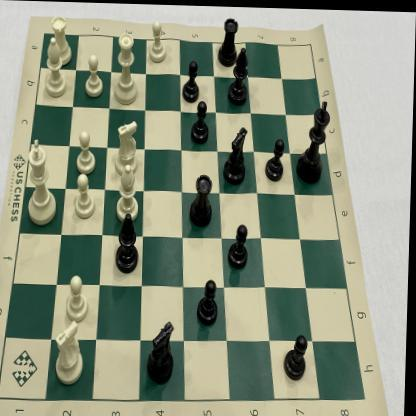black-bishop: (111, 208, 143, 276), (227, 42, 252, 109)
black-king: (295, 95, 332, 186)
black-knight: (147, 314, 179, 387), (223, 123, 249, 188)
black-pawn: (283, 327, 312, 382), (196, 274, 223, 326), (263, 133, 288, 183), (228, 219, 252, 271), (180, 56, 204, 105), (189, 98, 214, 145)
black-rook: (189, 166, 217, 228), (215, 11, 241, 69)
white-bishop: (39, 35, 71, 99), (116, 162, 143, 225)
white-king: (25, 135, 62, 226)
white-knight: (55, 316, 89, 389), (113, 116, 141, 177)
white-pawn: (65, 272, 92, 324), (73, 170, 98, 220), (83, 52, 107, 99), (145, 16, 168, 65), (75, 129, 99, 174)
white-queen: (114, 28, 142, 107)
white-rook: (48, 14, 75, 69)
